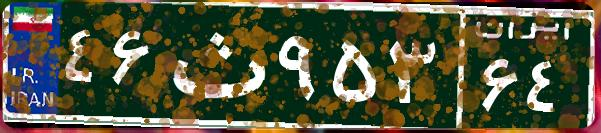3: (385, 28, 445, 110)
4: (57, 26, 110, 107), (525, 38, 570, 115)
5: (330, 28, 385, 110)
6: (475, 38, 525, 113), (110, 28, 158, 105)
9: (273, 28, 330, 110)
ث: (158, 15, 273, 115)
